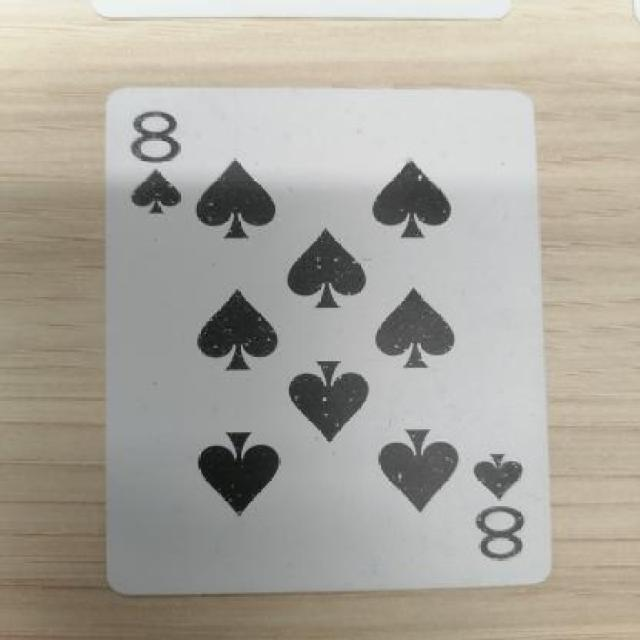8S: (115, 103, 208, 220), (462, 445, 544, 566)
